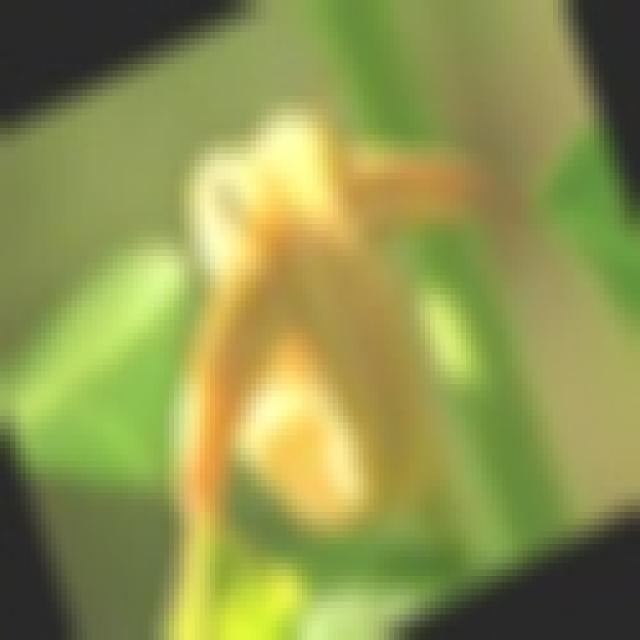Elderberry_rust: (140, 94, 541, 610)
